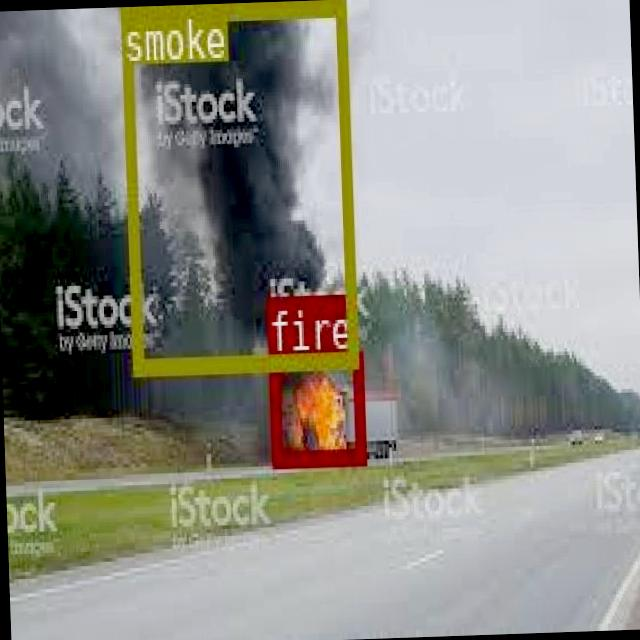fire: (268, 348, 364, 463)
smoke: (120, 0, 355, 374)
